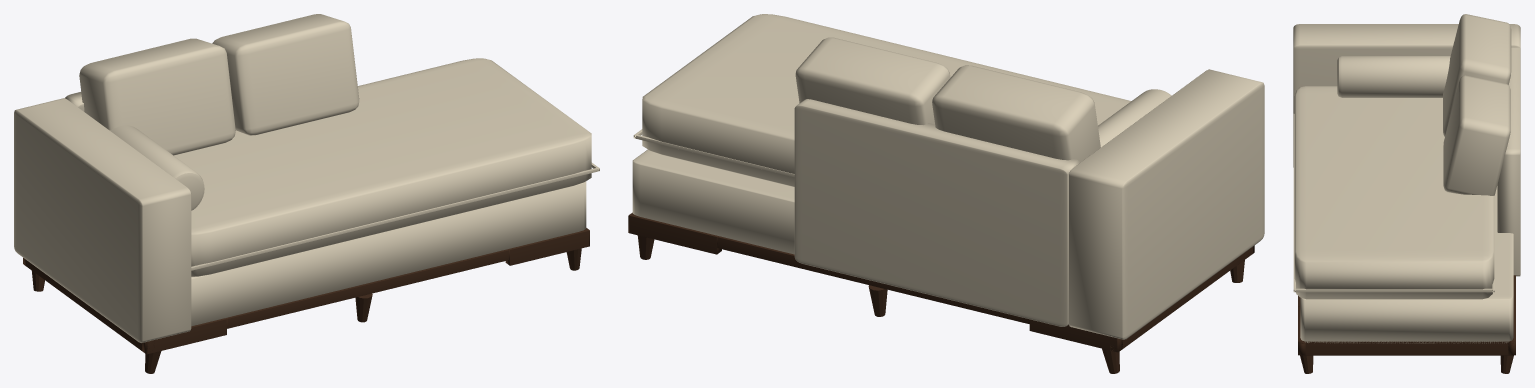
The model's file is chaise_lounge.glb.
3 renders of one model, left to right at view 1: azimuth 30°, elevation 25°; view 2: azimuth 150°, elevation 25°; view 3: azimuth 270°, elevation 25°, orthographic. The views are drawn at different scales.
Parts seen in each view (by area): view 1: Cube.009, Cube.014, Cube.008, Cube.016, Cube.017, Cube.001, Cylinder, Cube.010, Cube.002, Cube, Cube.006; view 2: Cube.015, Cube.014, Cube.009, Cube.016, Cube.008, Cube.017, Cube.004, Cube.005, Cylinder, Cube.003, Cube.006, Cube.011; view 3: Cube.009, Cube.008, Cube.014, Cube.017, Cylinder, Cube.016, Cube.015, Cube.007, Cube.013, Cube.010, Cube.002, Cube.005 (+2 smaller).
Boxes of the visible parts, x1,y1,x2,y2 form: Cube.009: (174,58,591,276); Cube.014: (14,98,191,342); Cube.008: (191,181,586,326); Cube.016: (79,38,235,155); Cube.017: (212,14,359,135); Cube.001: (226,249,509,328); Cylinder: (109,125,204,210); Cube.010: (191,168,598,270); Cube.002: (505,228,589,265); Cube: (142,318,226,354); Cube.006: (27,261,154,354); Cube.015: (794,99,1080,326); Cube.014: (1069,69,1264,339); Cube.009: (642,14,1131,186); Cube.016: (932,65,1100,161); Cube.008: (632,149,794,254); Cube.017: (795,37,950,124); Cube.004: (717,236,1029,323); Cube.005: (628,214,721,254); Cylinder: (1098,89,1171,147); Cube.003: (1029,319,1122,351); Cube.006: (1110,247,1253,352); Cube.011: (635,134,794,177); Cube.009: (1294,86,1494,299); Cube.008: (1300,186,1513,343); Cube.014: (1293,24,1520,167); Cube.017: (1443,75,1510,195); Cylinder: (1337,56,1450,97); Cube.016: (1443,14,1511,136); Cube.015: (1497,47,1520,276); Cube.007: (1298,338,1515,355); Cube.013: (1294,288,1493,292); Cube.010: (1293,114,1295,292); Cube.002: (1298,307,1305,355); Cube.005: (1508,307,1515,355).
Size of the model in its own units: 1.83 by 0.8513 by 0.8891.
